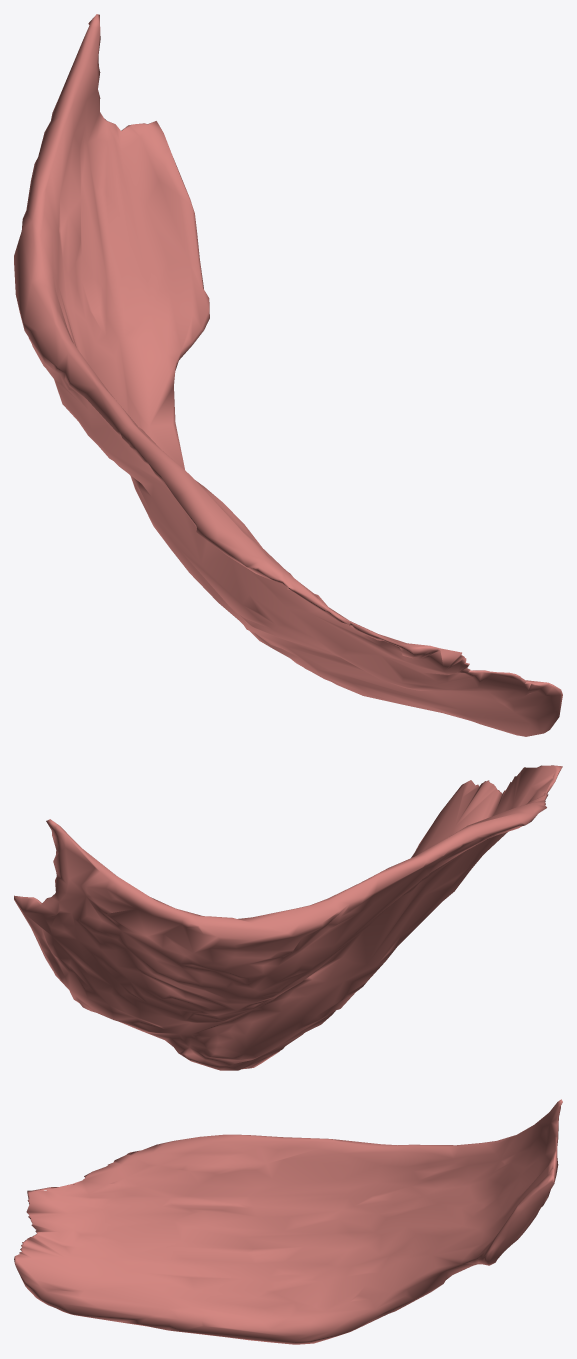
The picture shows the model from 3 angles, top to bottom: view 1: azimuth 30°, elevation 25°; view 2: azimuth 150°, elevation 25°; view 3: azimuth 270°, elevation 25°; orthographic projection. The views are drawn at different scales.
Parts seen in each view (by area): view 1: ZA_8cbf694759885d3b; view 2: ZA_8cbf694759885d3b; view 3: ZA_8cbf694759885d3b.
Boxes of the visible parts, left/top/right/bottom form: ZA_8cbf694759885d3b: left=14, top=14, right=562, bottom=736; ZA_8cbf694759885d3b: left=14, top=765, right=562, bottom=1070; ZA_8cbf694759885d3b: left=14, top=1099, right=562, bottom=1344.
Size of the model in its own units: 0.0333 by 0.0483 by 0.0936.
